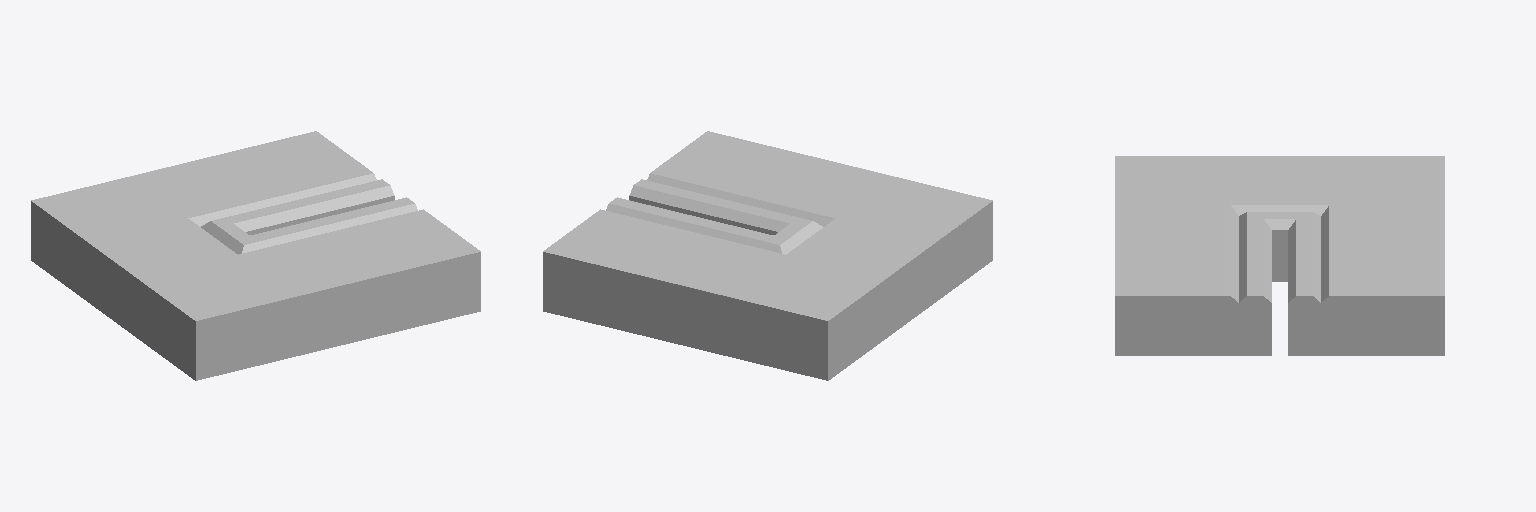
Rendered from trap_floor_saw_slot_end.obj.
3 renders of one model, left to right at view 1: azimuth 30°, elevation 25°; view 2: azimuth 150°, elevation 25°; view 3: azimuth 270°, elevation 25°, orthographic.
Visible parts, largest first — view 1: trap_floor_saw_slot_end; view 2: trap_floor_saw_slot_end; view 3: trap_floor_saw_slot_end.
Boxes of the visible parts, x1,y1,x2,y2 form: trap_floor_saw_slot_end: [31, 131, 480, 380]; trap_floor_saw_slot_end: [543, 131, 992, 380]; trap_floor_saw_slot_end: [1115, 156, 1444, 355].
Bounding box in the file's own units: 1 × 0.2 × 1.